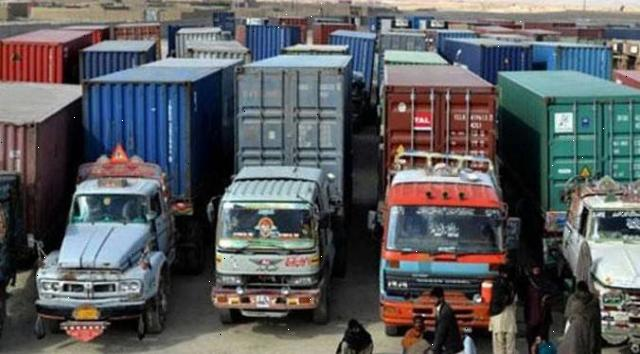Truck: (39, 67, 209, 336), (209, 55, 353, 325), (374, 59, 512, 313), (539, 77, 640, 320)
